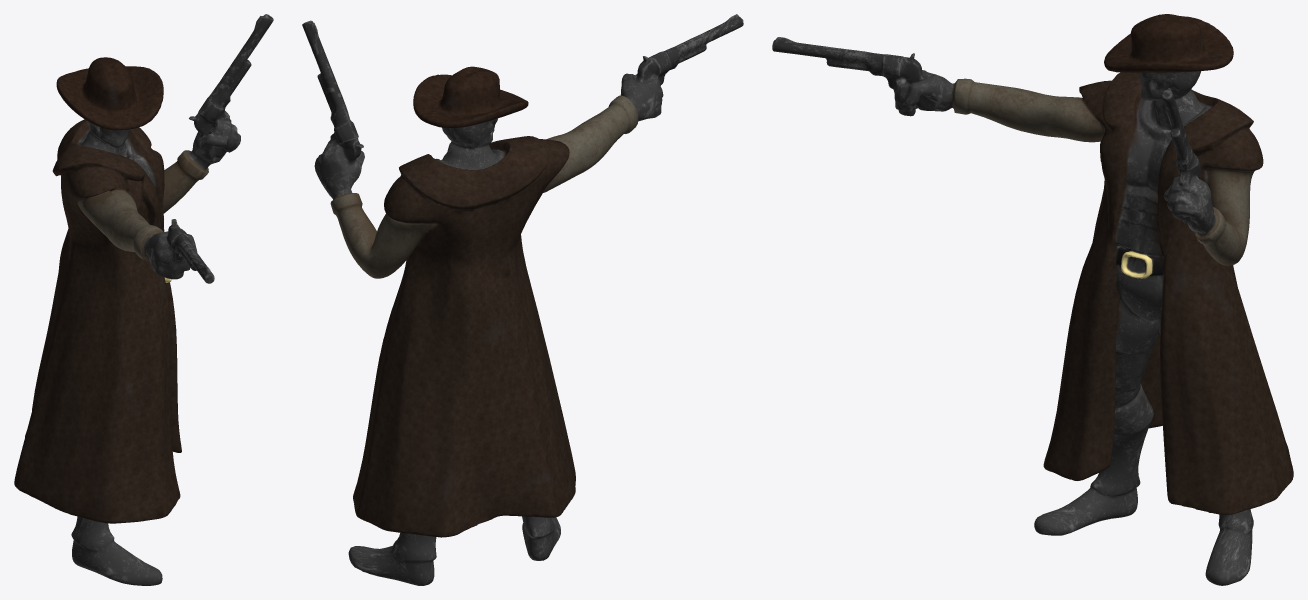
File: MZ4250 - Warforged Gunslinger 3.glb
3 views of the same model, side by side, from view 1: azimuth 30°, elevation 25°; view 2: azimuth 150°, elevation 25°; view 3: azimuth 270°, elevation 25° (orthographic). The views are drawn at different scales.
Parts seen in each view (by area): view 1: Warforged Gunslinger 3_LOW.001; view 2: Warforged Gunslinger 3_LOW.001; view 3: Warforged Gunslinger 3_LOW.001.
Part boxes in pixels (x1=…): Warforged Gunslinger 3_LOW.001: x1=14, y1=14, x2=273, y2=585; Warforged Gunslinger 3_LOW.001: x1=302, y1=14, x2=743, y2=585; Warforged Gunslinger 3_LOW.001: x1=772, y1=14, x2=1293, y2=585.
Bounding box in the file's own units: 1.4 × 2.57 × 2.29.
1 material, 1 textured.
